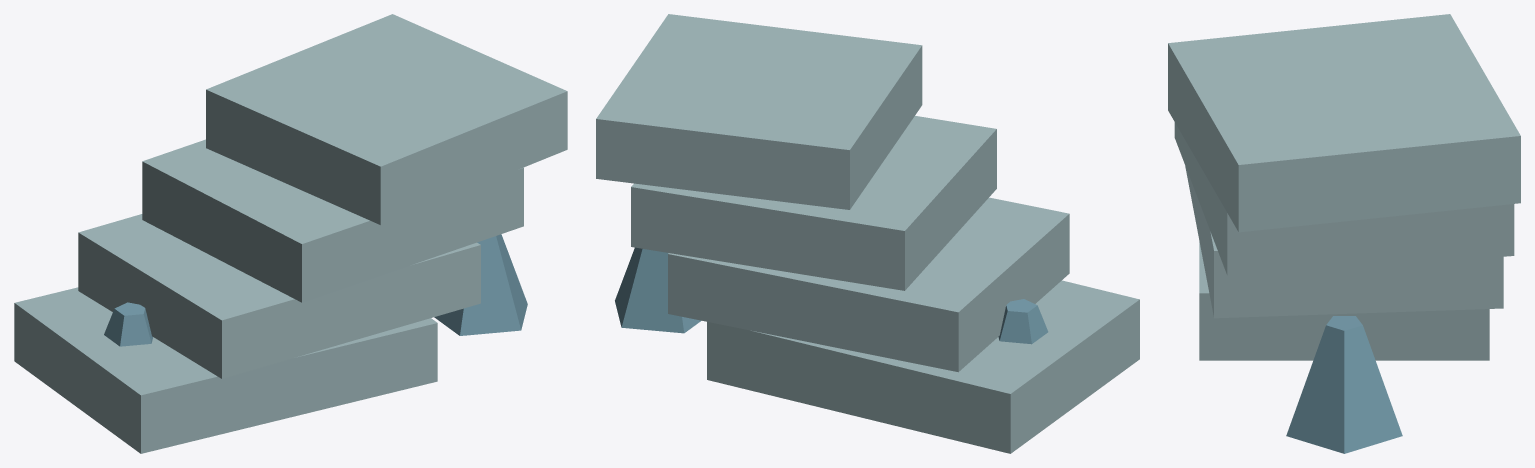
File: map-exclusive-v3__frost_06.glb
3 renders of one model, left to right at view 1: azimuth 30°, elevation 25°; view 2: azimuth 150°, elevation 25°; view 3: azimuth 270°, elevation 25°, orthographic. The views are drawn at different scales.
Parts seen in each view (by area): view 1: frost_06; view 2: frost_06; view 3: frost_06.
Part boxes in pixels (<box>): frost_06: <box>14,14,567,453</box>; frost_06: <box>596,14,1139,453</box>; frost_06: <box>1168,14,1520,453</box>.
Size of the model in its own units: 1.85 by 0.975 by 1.09.
